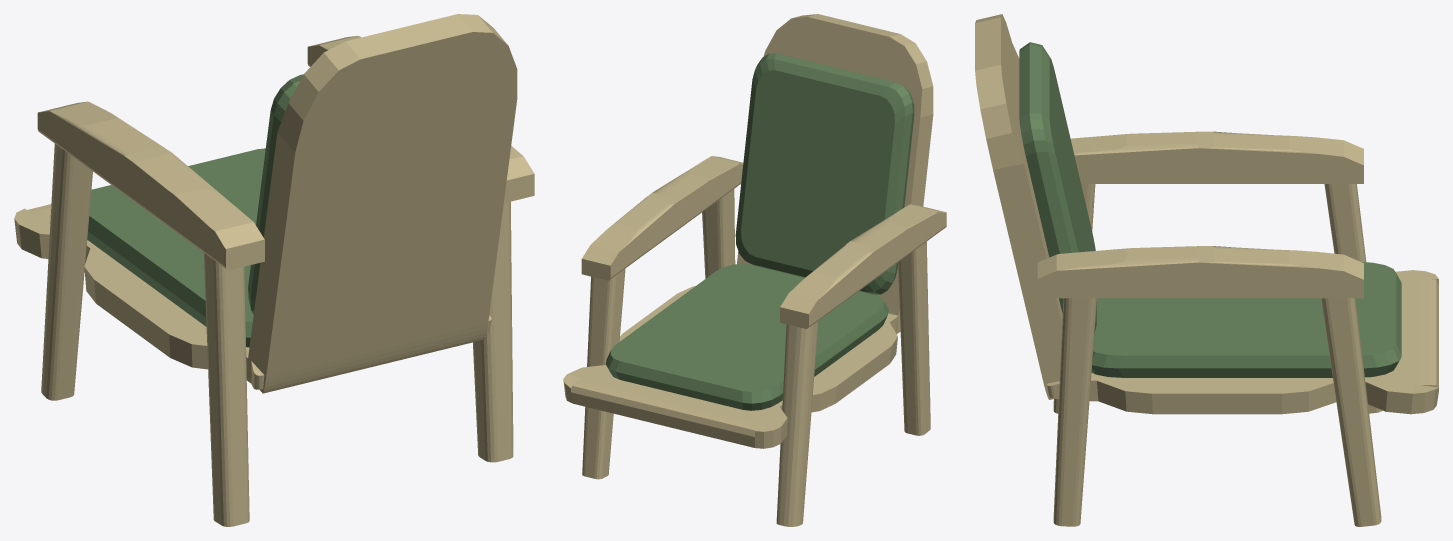
The model's file is Chair_5.fbx.
3 views of the same model, side by side, from view 1: azimuth 30°, elevation 25°; view 2: azimuth 150°, elevation 25°; view 3: azimuth 270°, elevation 25° (orthographic). The views are drawn at different scales.
Parts seen in each view (by area): view 1: Cube.271, Cube.269, Cube.272, Cube.267, Cube.265, Cube.268, Cube.266, Cube.273, Cube.270; view 2: Cube.273, Cube.272, Cube.268, Cube.271, Cube.269, Cube.270, Cube.265, Cube.267, Cube.263, Cube.266; view 3: Cube.272, Cube.270, Cube.268, Cube.269, Cube.271, Cube.273, Cube.263, Cube.266, Cube.265.
Part boxes in pixels (x1,y1,x2,y2): Cube.271: (246,14,517,393); Cube.269: (37,101,264,270); Cube.272: (87,148,265,347); Cube.267: (204,253,249,526); Cube.265: (41,144,92,400); Cube.268: (14,204,491,389); Cube.266: (473,201,513,462); Cube.273: (248,74,303,314); Cube.270: (307,35,534,203); Cube.273: (735,53,914,294); Cube.272: (605,263,888,410); Cube.268: (563,286,900,448); Cube.271: (737,14,933,329); Cube.269: (780,204,946,328); Cube.270: (581,156,743,280); Cube.265: (776,321,818,526); Cube.267: (898,242,930,435); Cube.263: (582,268,625,479); Cube.266: (702,189,735,278); Cube.272: (1091,262,1401,377); Cube.270: (1037,246,1363,298); Cube.268: (1047,270,1438,414); Cube.269: (1070,131,1363,183); Cube.271: (975,14,1062,399); Cube.273: (1019,42,1096,333); Cube.263: (1321,298,1381,526); Cube.266: (1053,298,1096,526); Cube.265: (1324,184,1382,413).
Bounding box in the file's own units: 444 × 671 × 665.
